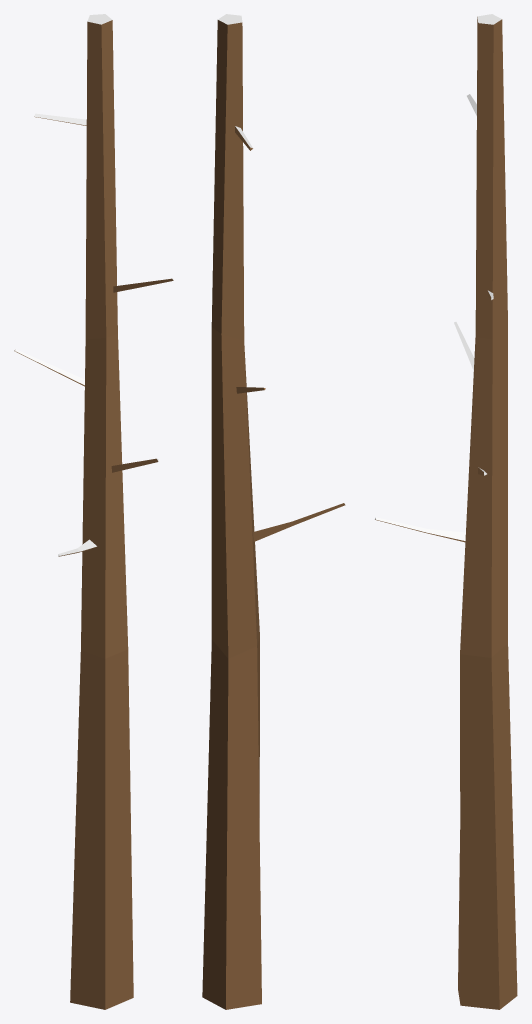
File: Pine_Tree_NoLeaves_crk_l_Snow_BT_02.fbx
3 renders of one model, left to right at view 1: azimuth 30°, elevation 25°; view 2: azimuth 150°, elevation 25°; view 3: azimuth 330°, elevation 25°, orthographic.
Visible parts, largest first — view 1: Pine_Tree_NoLeaves_crk_l_Snow_BT_02; view 2: Pine_Tree_NoLeaves_crk_l_Snow_BT_02; view 3: Pine_Tree_NoLeaves_crk_l_Snow_BT_02.
Part boxes in pixels (<box>): Pine_Tree_NoLeaves_crk_l_Snow_BT_02: <box>14,14,173,1009</box>; Pine_Tree_NoLeaves_crk_l_Snow_BT_02: <box>202,14,345,1009</box>; Pine_Tree_NoLeaves_crk_l_Snow_BT_02: <box>375,14,517,1009</box>.
Size of the model in its own units: 131 by 1042 by 122.
